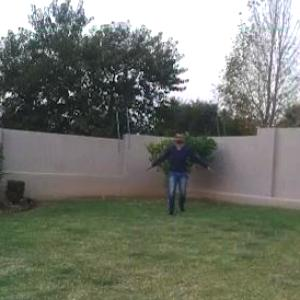land: (149, 123, 221, 220)
